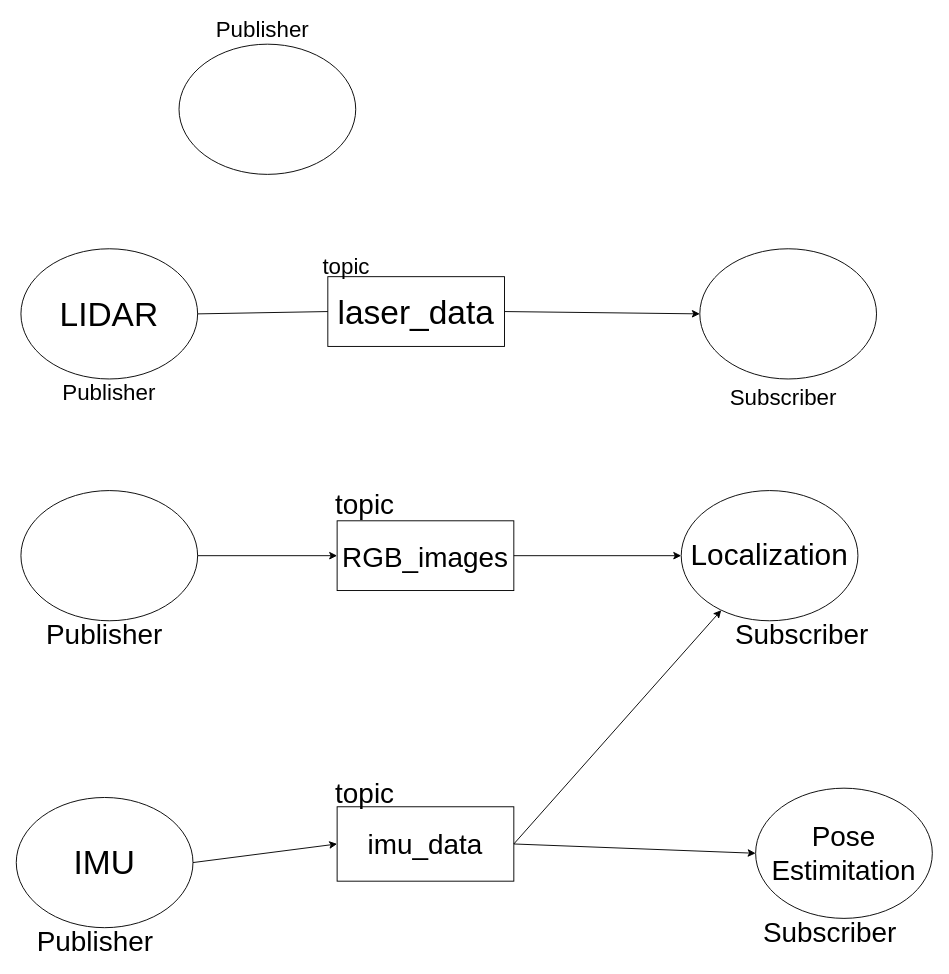
Some shapes in this 949 by 974 pixel diagram are drawn without their labels. The box of each missing label's shape, as (x1, y1, x2, y2) in pixels:
Camera: (20, 490, 198, 621)
SLAM: (699, 248, 877, 379)
Velocity: (178, 43, 356, 174)
